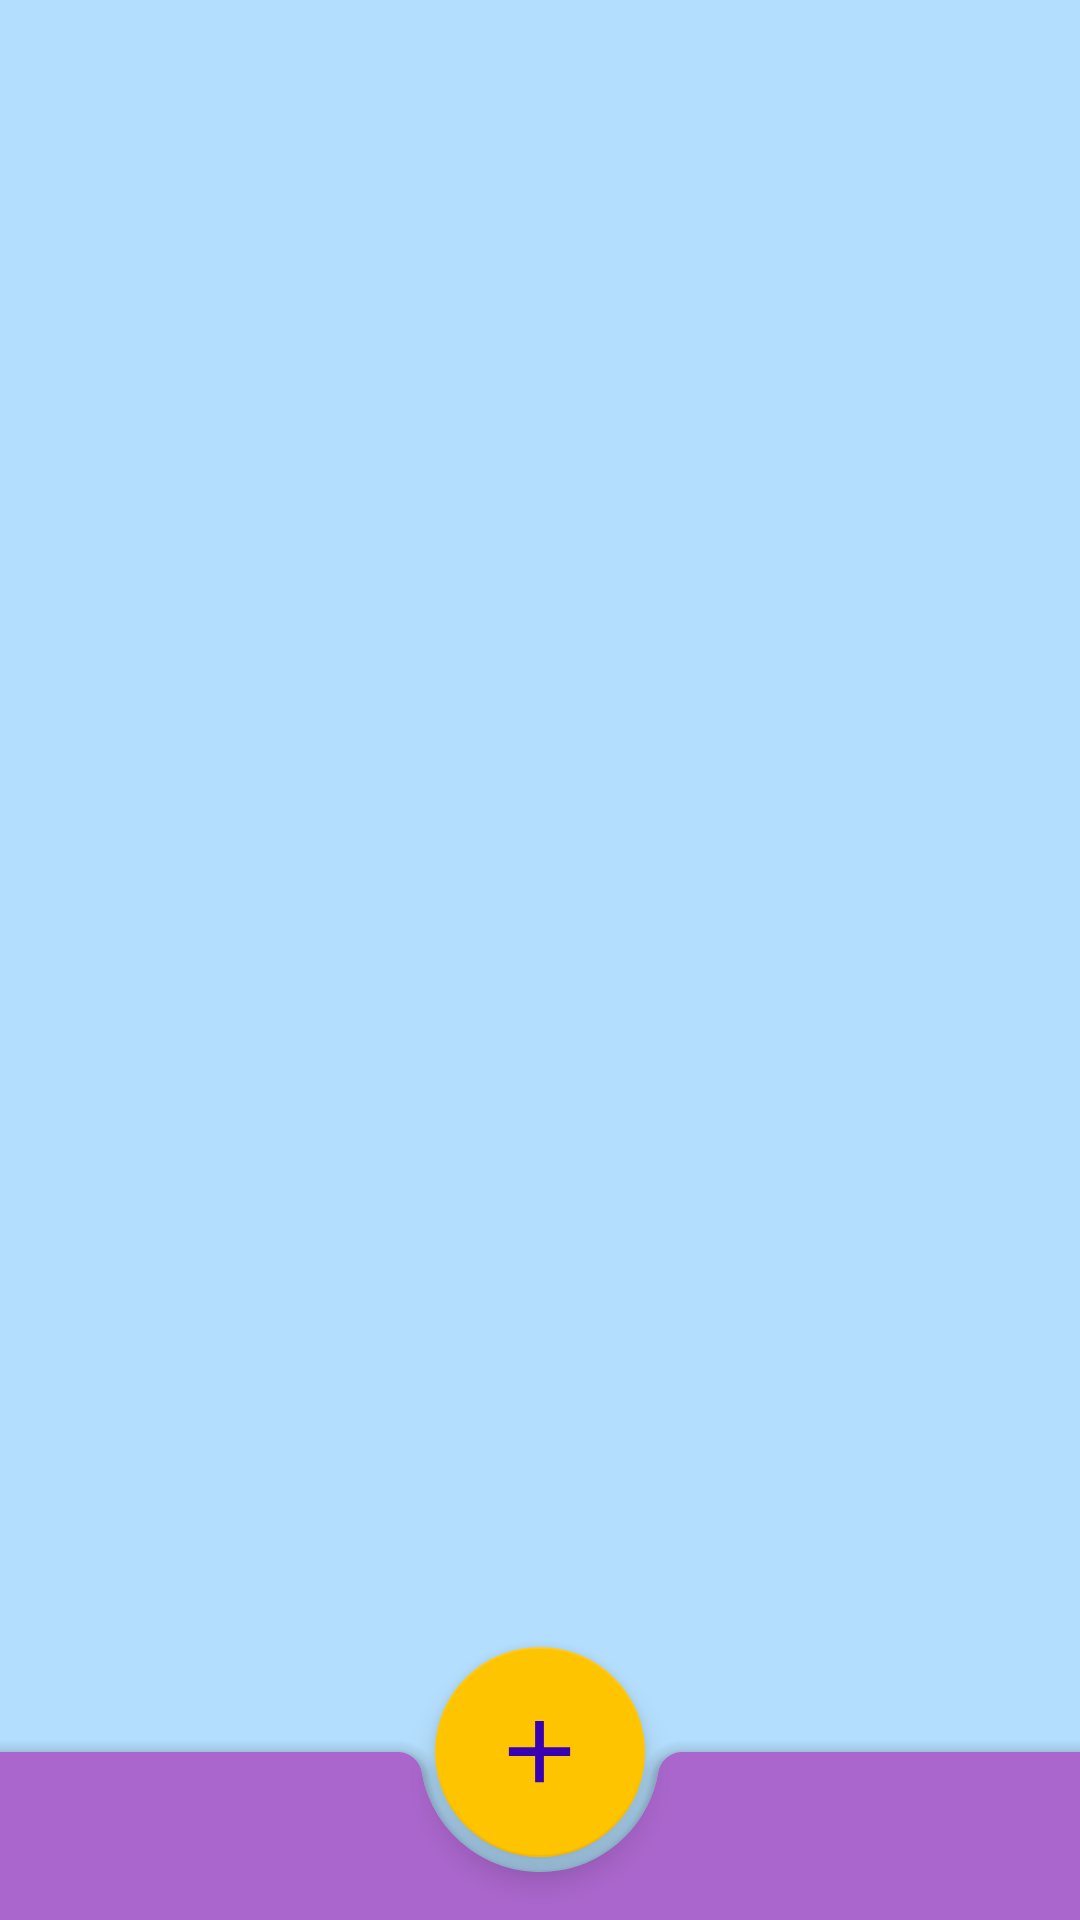

Where to tap for icons on this 1080w x 1920h app screen, as [x,y]:
add: [540,1752]
